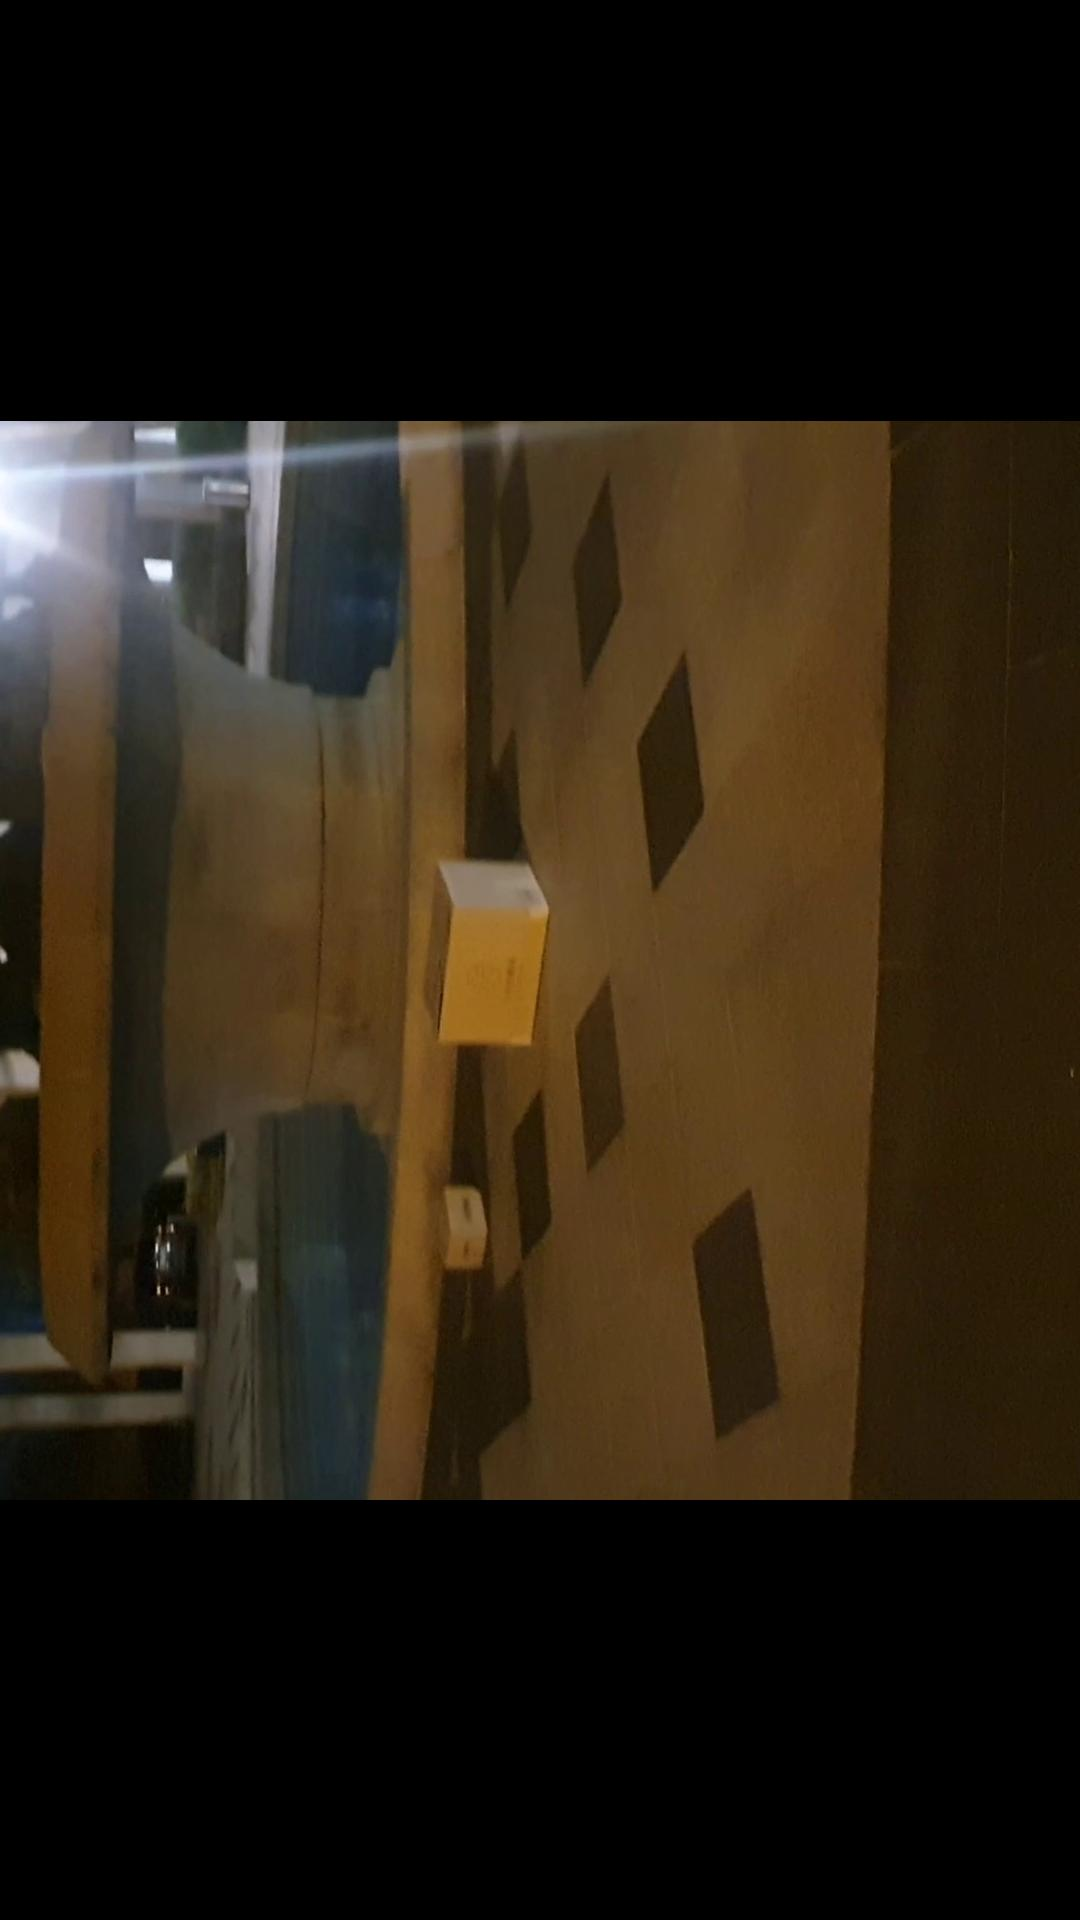Box: (415, 851, 562, 1058), (418, 1170, 498, 1276)
